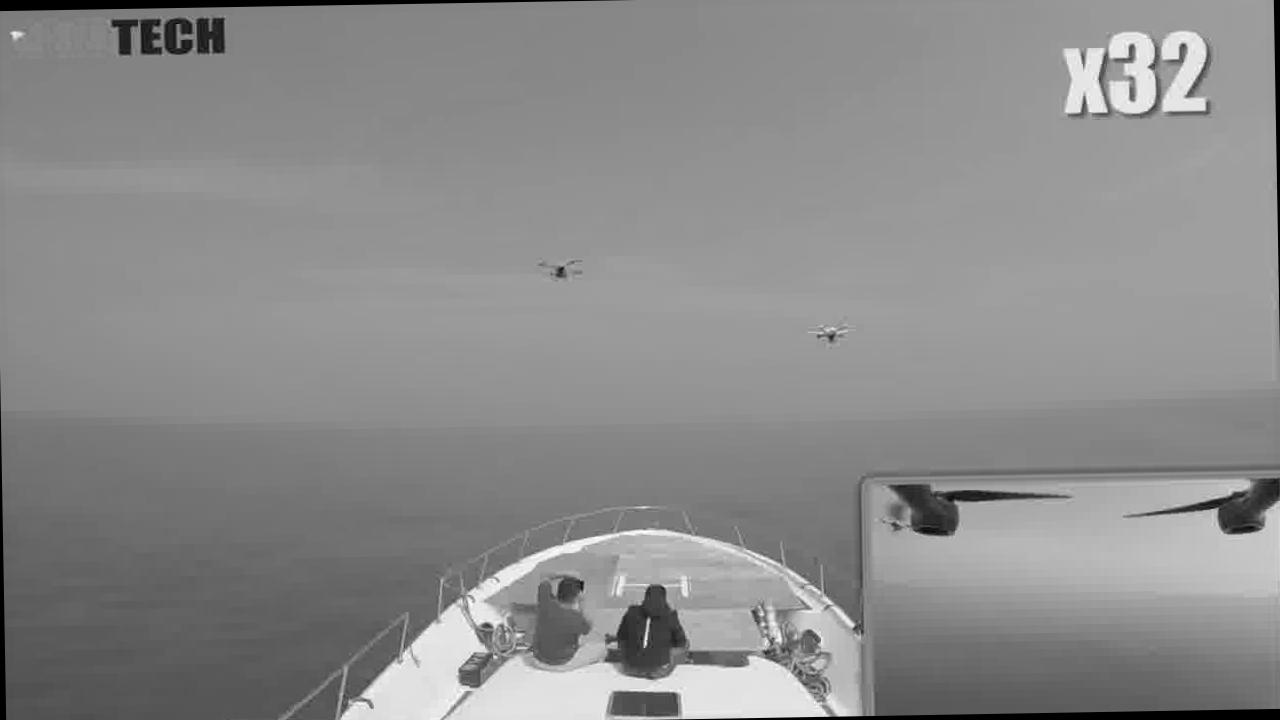drone: (810, 305, 862, 370), (534, 242, 593, 292)
